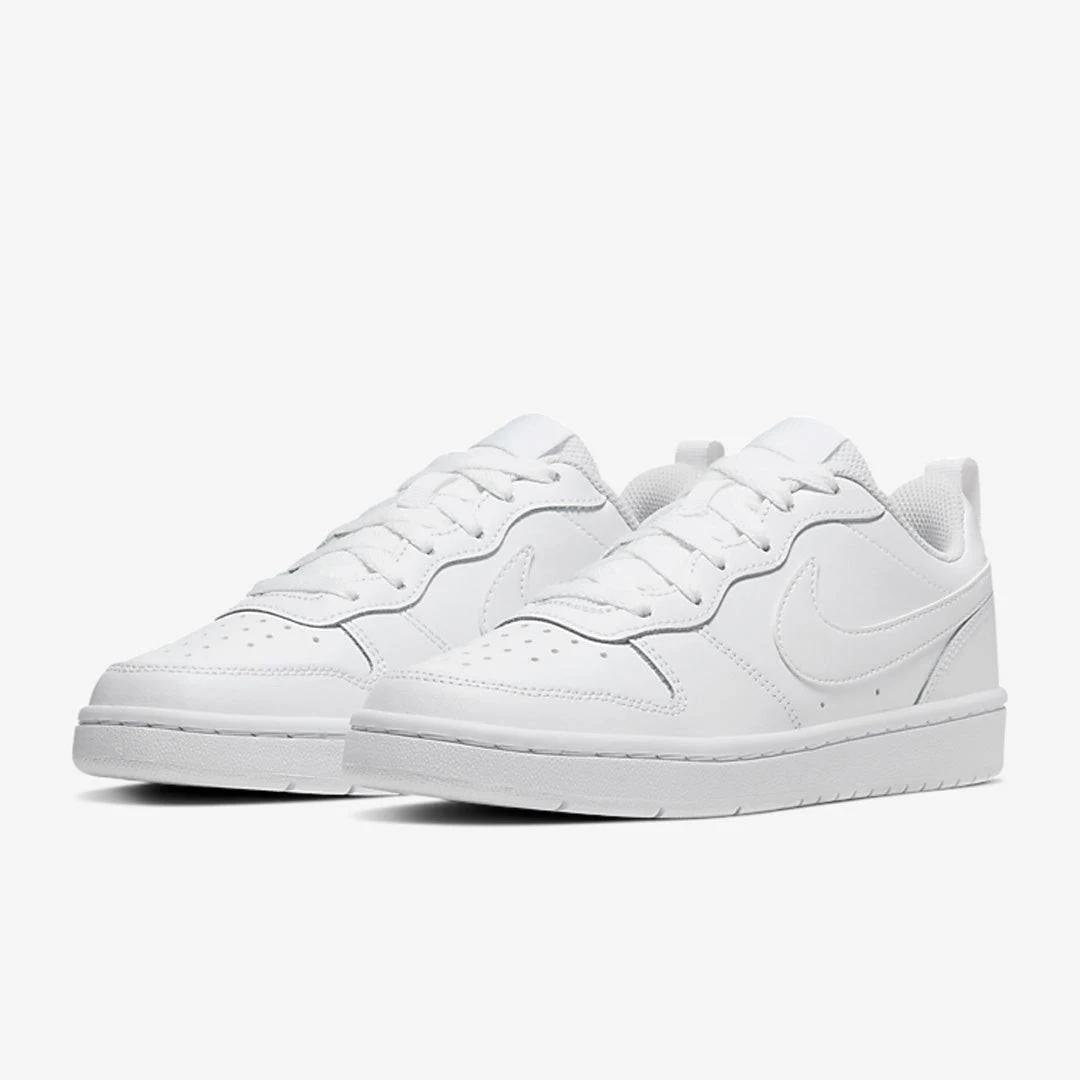marca: (776, 559, 990, 685)
shoe: (347, 420, 1006, 816), (73, 416, 722, 794)
